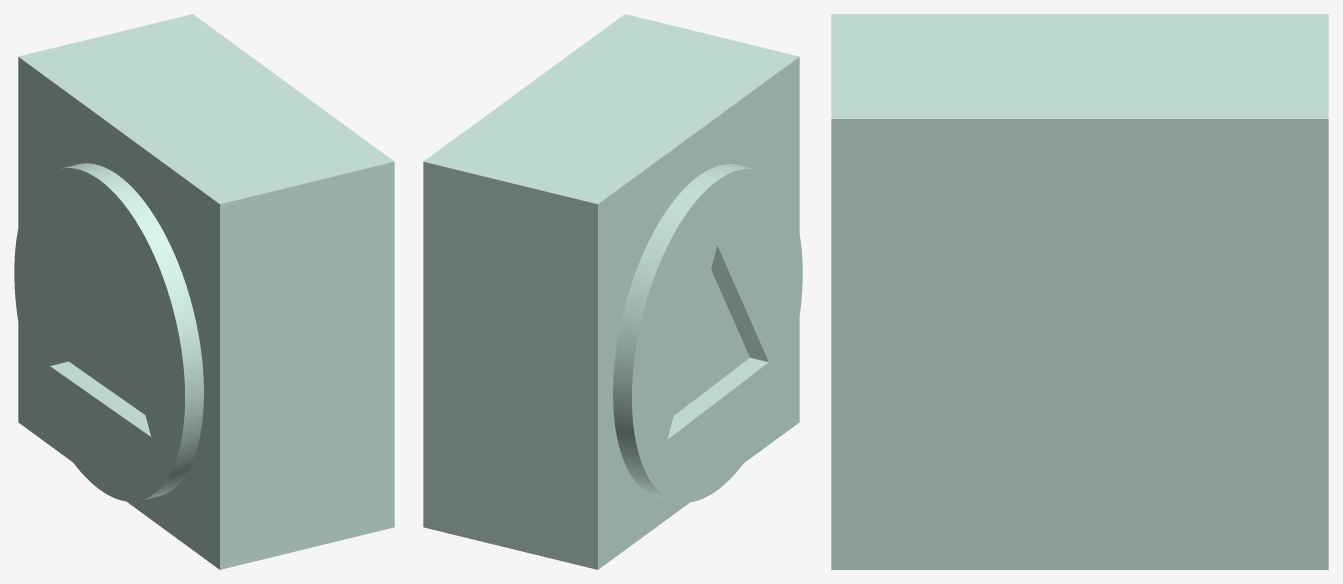
The picture shows the model from 3 angles, left to right: view 1: azimuth 30°, elevation 25°; view 2: azimuth 150°, elevation 25°; view 3: azimuth 270°, elevation 25°; orthographic projection. The views are drawn at different scales.
Parts seen in each view (by area): view 1: Renderer Node; view 2: Renderer Node; view 3: Renderer Node.
Boxes of the visible parts, bbox=[...] form: Renderer Node: bbox=[14, 14, 394, 569]; Renderer Node: bbox=[423, 14, 802, 569]; Renderer Node: bbox=[831, 14, 1328, 569].
Size of the model in its own units: 0.6406 by 1.16 by 1.16.
